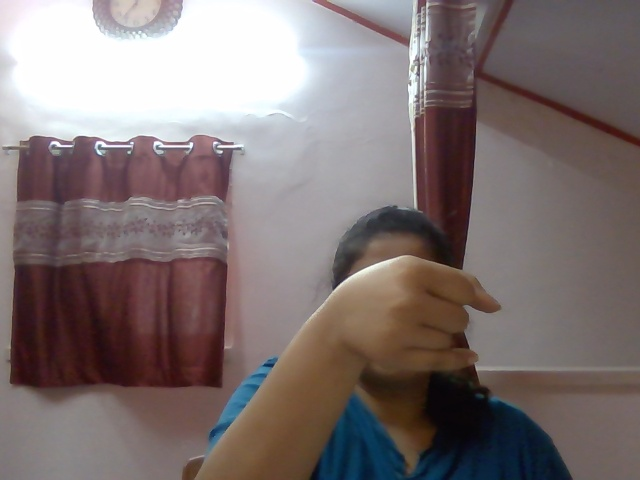j: (348, 252, 525, 393)
